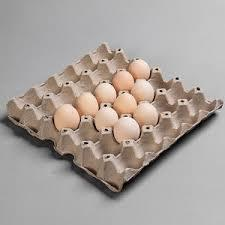egg: (112, 112, 140, 145), (54, 103, 79, 134), (132, 78, 156, 107), (112, 92, 139, 116), (134, 101, 158, 128), (78, 92, 99, 118), (128, 58, 152, 80), (94, 106, 116, 130), (97, 81, 116, 102), (116, 72, 135, 92)
